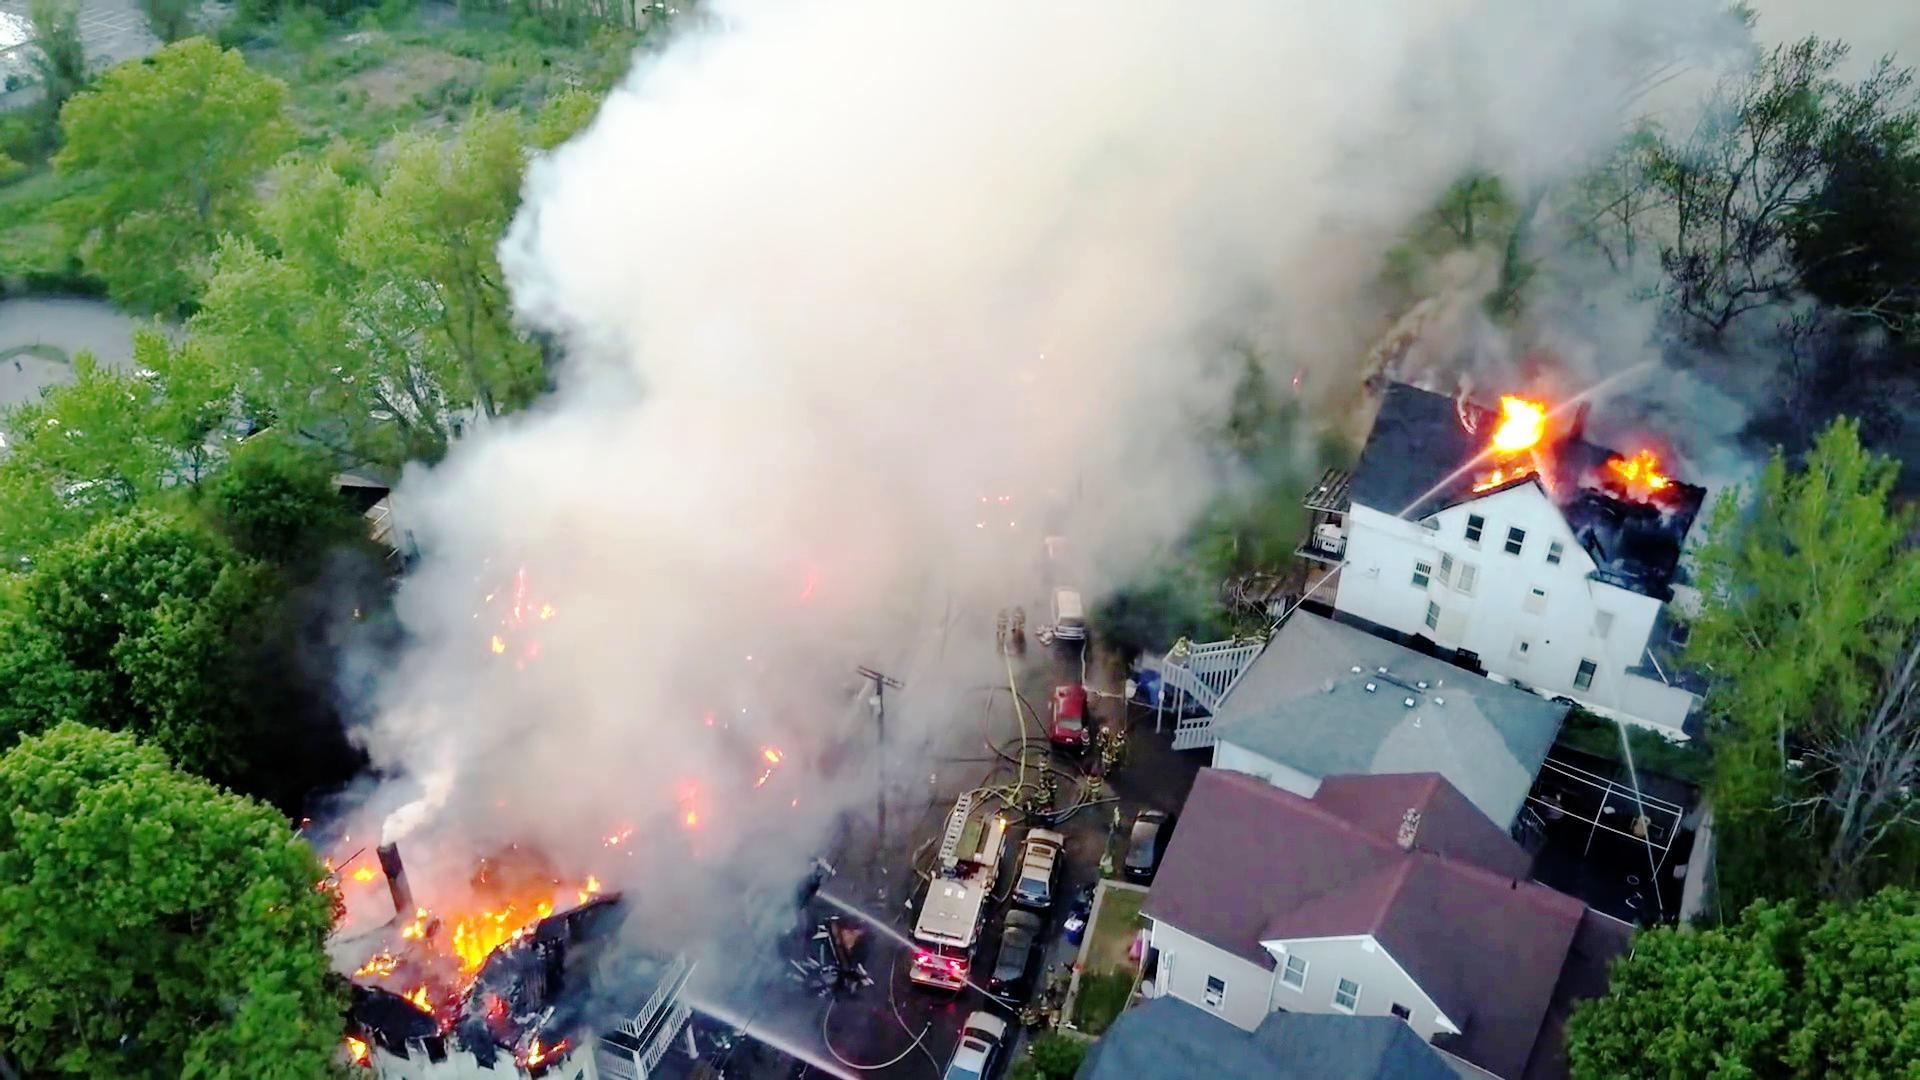fire: (434, 886, 527, 976), (1494, 357, 1563, 463)
smoke: (713, 17, 1427, 277), (634, 330, 887, 596)
